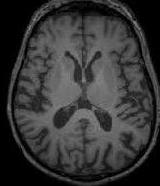Normal_Brain: (1, 1, 160, 186)
